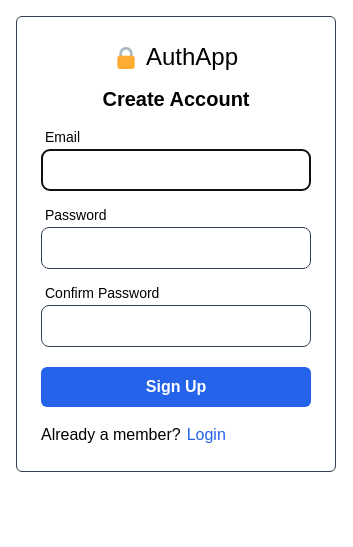
Scenario: AccountApp › register › validation › validates password confirmation
Expected: the heading "AuthApp" is shown, [146, 41, 238, 73]
Type "notapassword" into the password field labelled "Confirm Password".
click(176, 326); type("notapassword")  # box [41, 305, 311, 347]
Then press Enter
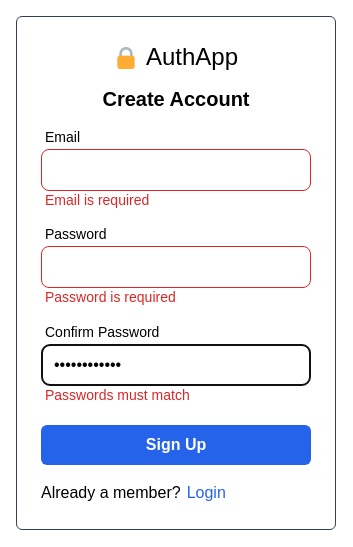
Expected: the text "Passwords must match" is shown, [45, 386, 190, 402]
